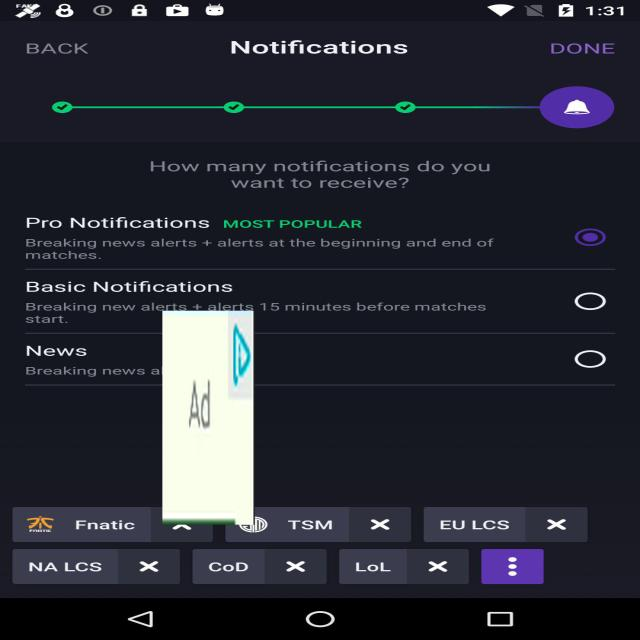sneaking: (162, 310, 255, 524)
